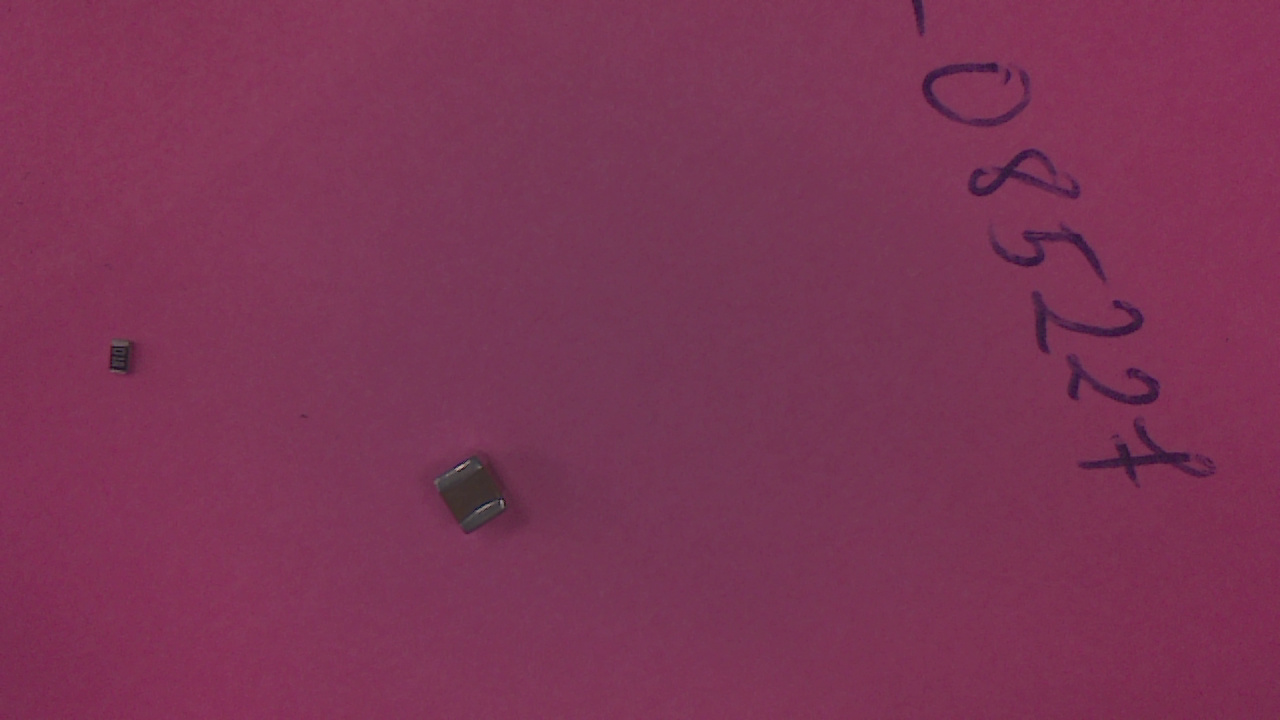Condensator: (435, 458, 518, 541)
Resistor: (109, 342, 139, 381)
